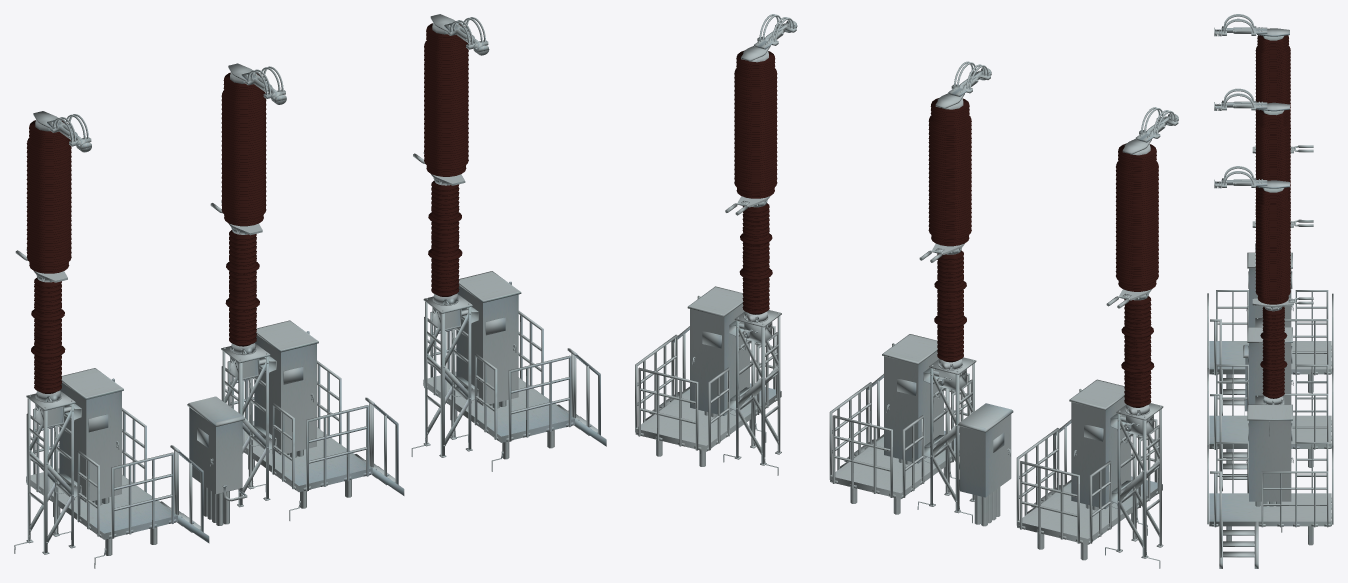
File: 断路器.FBX
3 views of the same model, side by side, from view 1: azimuth 30°, elevation 25°; view 2: azimuth 150°, elevation 25°; view 3: azimuth 270°, elevation 25° (orthographic). The views are drawn at different scales.
Parts seen in each view (by area): view 1: 断路器, Cylinder59101, Cylinder59097, Cylinder59099, Cylinder59102, Cylinder59098, Cylinder59100, Box318, Box316, Box317, Box319, 箱子258; view 2: Cylinder59097, Cylinder59101, Cylinder59099, 断路器, Cylinder59098, Cylinder59100, Cylinder59102, Box316, Box317, Box318, Box319, 箱子258; view 3: 断路器, Cylinder59097, Cylinder59098, Cylinder59099, Cylinder59101, Box318, Cylinder59100, Cylinder59102, Box317, Box316.
Boxes of the visible parts, x1,y1,x2,y2 form: 断路器: (14, 271, 574, 568); Cylinder59101: (15, 111, 209, 555); Cylinder59097: (413, 14, 606, 459); Cylinder59099: (203, 63, 404, 525); Cylinder59102: (26, 120, 71, 393); Cylinder59098: (424, 23, 468, 296); Cylinder59100: (221, 72, 266, 346); Box318: (456, 285, 518, 405); Box316: (59, 382, 121, 502); Box317: (254, 335, 316, 455); Box319: (189, 407, 242, 494); 箱子258: (187, 396, 244, 494); Cylinder59097: (635, 14, 797, 466); Cylinder59101: (1016, 107, 1178, 560); Cylinder59099: (829, 61, 1010, 526); 断路器: (636, 286, 1162, 568); Cylinder59098: (734, 50, 777, 314); Cylinder59100: (928, 98, 971, 362); Cylinder59102: (1115, 143, 1158, 407); Box316: (1071, 397, 1131, 508); Box317: (884, 351, 943, 463); Box318: (690, 303, 749, 415); Box319: (960, 414, 1011, 497); 箱子258: (958, 403, 1013, 432); 断路器: (1209, 252, 1331, 532); Cylinder59097: (1207, 166, 1333, 568); Cylinder59098: (1255, 187, 1290, 398); Cylinder59099: (1207, 88, 1333, 491); Cylinder59101: (1207, 14, 1333, 415); Box318: (1249, 420, 1291, 501); Cylinder59100: (1255, 110, 1290, 316); Cylinder59102: (1255, 35, 1290, 139); Box317: (1249, 343, 1291, 404); Box316: (1249, 268, 1291, 327).
Bounding box in the file's own units: 21.11 × 16.57 × 5.33.
Materials: 2 (1 with a texture image).
